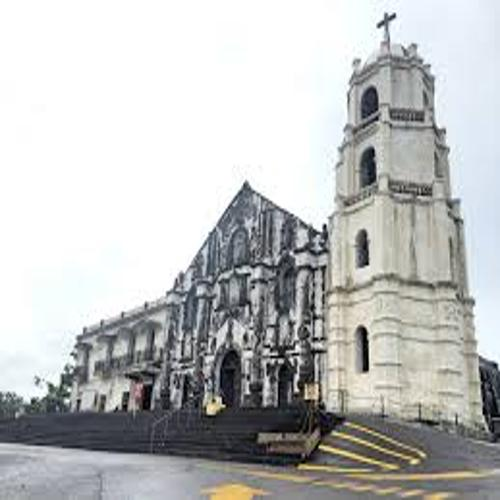Daraga Church: (166, 13, 487, 438)
